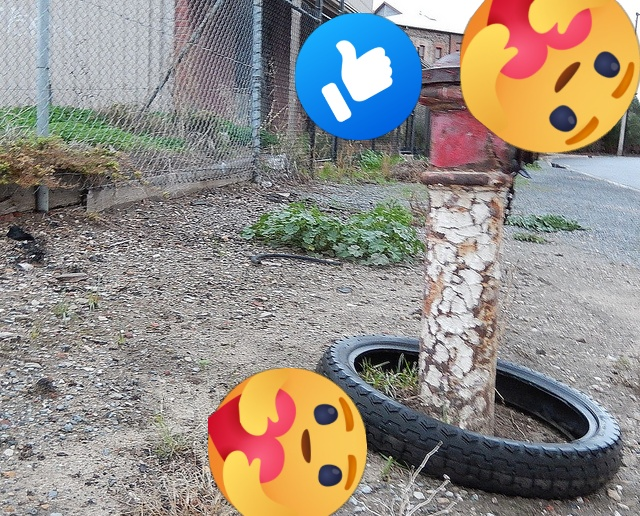care: (460, 0, 640, 153), (208, 368, 367, 516)
like: (295, 13, 422, 140)
